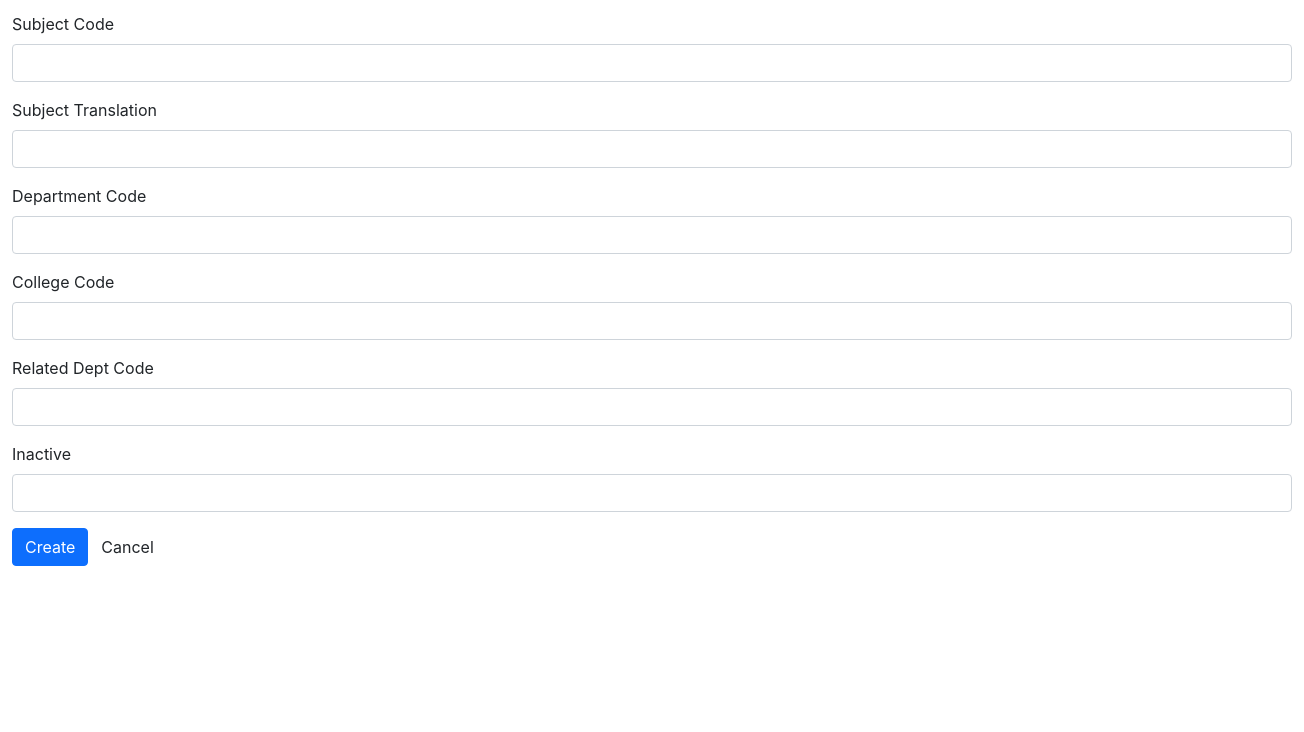
Test case: UCSBSubjectForm tests › Correct Error messsages on missing input
Click the button with test id "UCSBSubjectForm-submit". click: (50, 547)
box: [12,528,88,566]
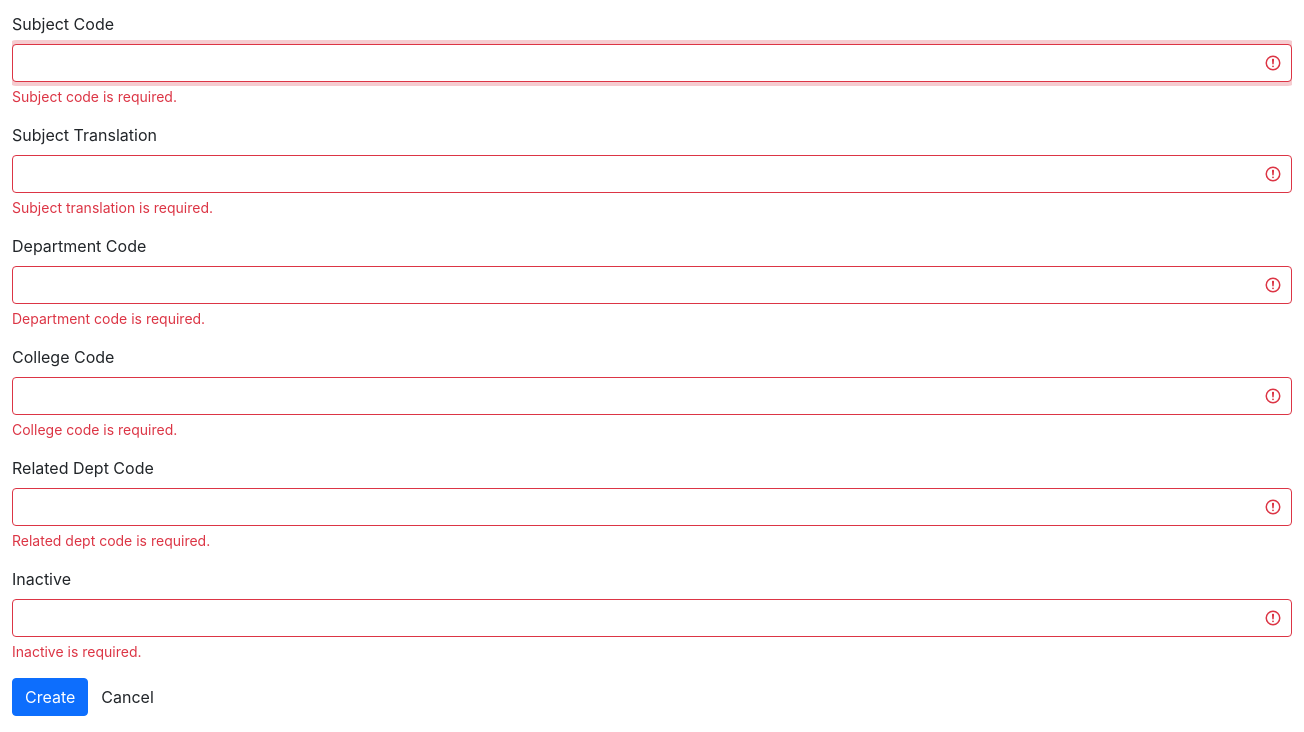
Expected: the text "Subject code is required." is shown, [12,88,177,105]
Expected: the text "Subject translation is required." is shown, [12,199,213,216]
Expected: the text "Department code is required." is shown, [12,310,205,327]
